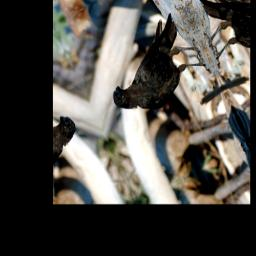Crow: (90, 6, 216, 129)
